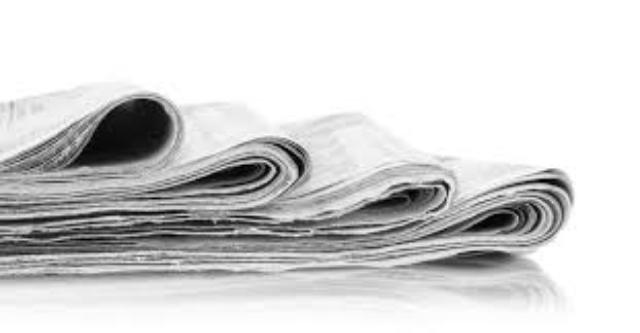cardboard paper: (0, 82, 568, 274)
